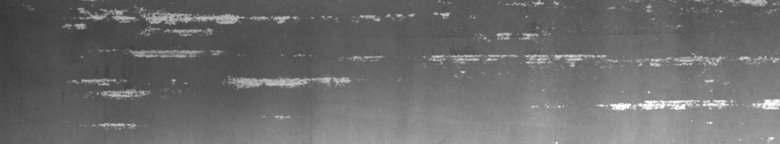kb: (23, 4, 776, 132)
